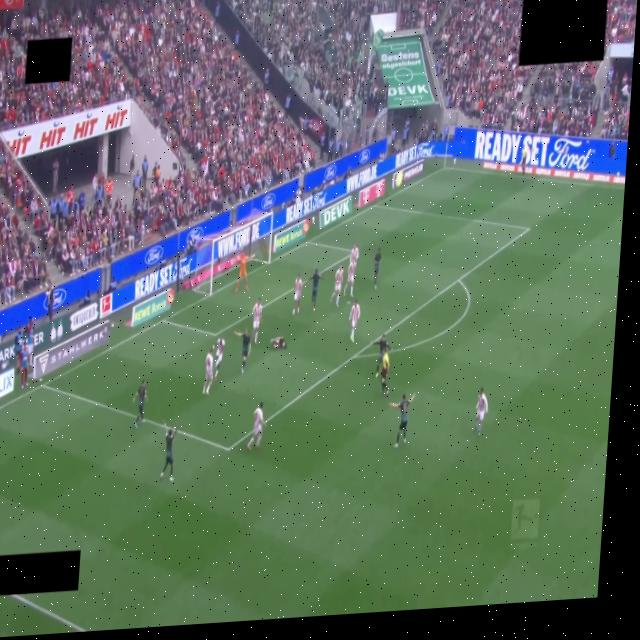player: (389, 394, 415, 447), (160, 422, 177, 481), (248, 402, 264, 450), (344, 245, 359, 296), (373, 334, 390, 377), (235, 253, 253, 292), (474, 387, 488, 436), (133, 381, 147, 428), (235, 330, 250, 373), (309, 269, 323, 311), (330, 265, 343, 306), (203, 347, 214, 394), (349, 300, 360, 342), (253, 298, 262, 343), (344, 263, 356, 296), (215, 339, 224, 379), (293, 275, 302, 314), (373, 248, 381, 289), (350, 244, 359, 266), (270, 337, 286, 349)
referee: (379, 351, 392, 396)
